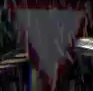Give way: (8, 3, 88, 86)
